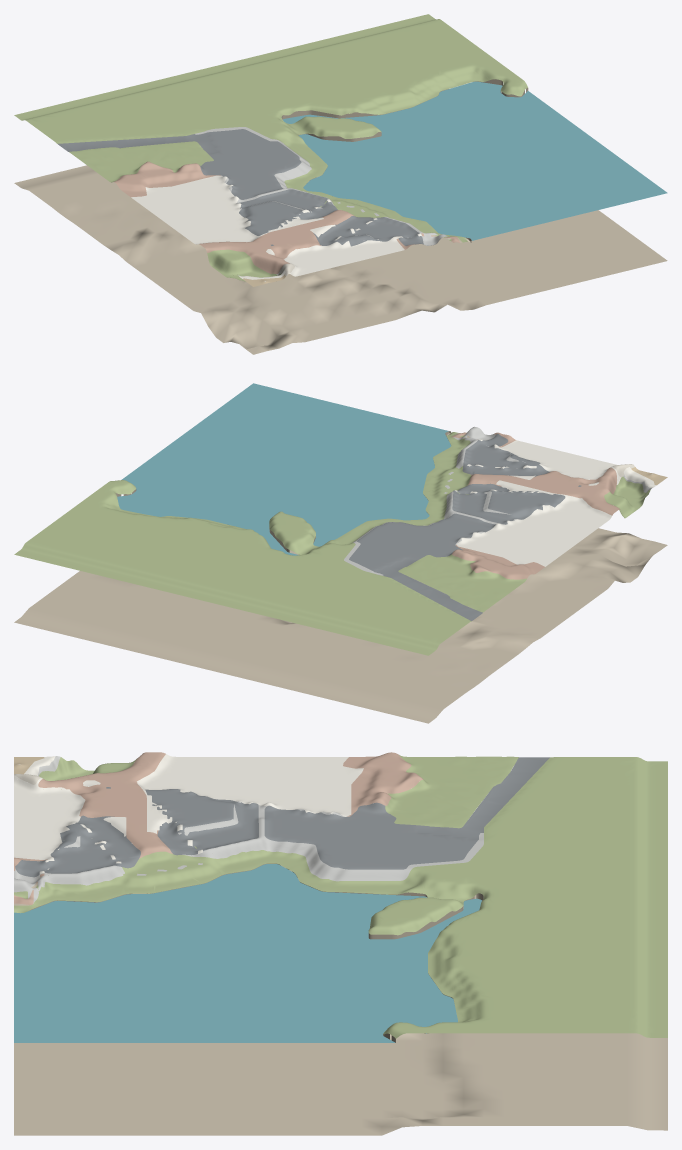
3 views of the same model, one above another, from view 1: azimuth 30°, elevation 25°; view 2: azimuth 150°, elevation 25°; view 3: azimuth 270°, elevation 25° (orthographic). The views are drawn at different scales.
Parts seen in each view (by area): view 1: s_2_-1__soil, s_2_-1__grass, s_2_-1__water, s_2_-1__asphalt, s_2_-1__white_marking, s_2_-1__brick_paving, s_2_-1__stone_paving, s_2_-1__shore_bank; view 2: s_2_-1__soil, s_2_-1__grass, s_2_-1__water, s_2_-1__asphalt, s_2_-1__white_marking, s_2_-1__brick_paving, s_2_-1__stone_paving; view 3: s_2_-1__grass, s_2_-1__water, s_2_-1__soil, s_2_-1__asphalt, s_2_-1__white_marking, s_2_-1__brick_paving, s_2_-1__stone_paving, s_2_-1__shore_bank.
Boxes of the visible parts, x1,y1,x2,y2 form: s_2_-1__soil: (14, 165, 667, 354); s_2_-1__grass: (14, 14, 527, 281); s_2_-1__water: (283, 81, 667, 240); s_2_-1__asphalt: (58, 129, 423, 246); s_2_-1__white_marking: (131, 175, 421, 279); s_2_-1__brick_paving: (114, 161, 459, 273); s_2_-1__stone_paving: (195, 127, 450, 275); s_2_-1__shore_bank: (281, 79, 528, 241); s_2_-1__soil: (14, 433, 667, 723); s_2_-1__grass: (14, 432, 650, 655); s_2_-1__water: (117, 383, 451, 555); s_2_-1__asphalt: (349, 434, 581, 621); s_2_-1__white_marking: (454, 439, 656, 566); s_2_-1__brick_paving: (452, 432, 620, 579); s_2_-1__stone_paving: (344, 426, 651, 575); s_2_-1__grass: (14, 755, 667, 1038); s_2_-1__water: (14, 864, 482, 1042); s_2_-1__soil: (14, 861, 667, 1135); s_2_-1__asphalt: (15, 757, 549, 877); s_2_-1__white_marking: (14, 754, 363, 874); s_2_-1__brick_paving: (14, 752, 423, 904); s_2_-1__stone_paving: (14, 756, 483, 903); s_2_-1__shore_bank: (29, 863, 483, 1042).
Bounding box in the file's own units: 128 × 24.98 × 128.
